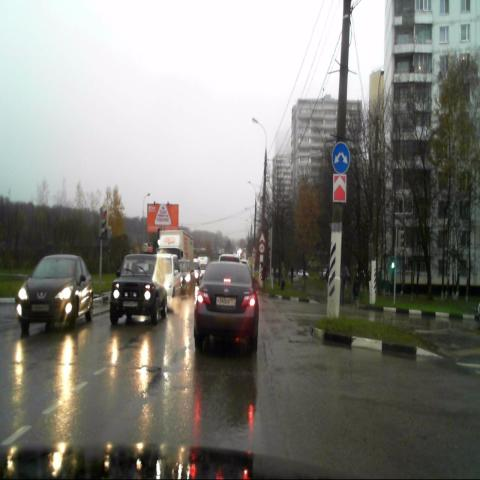4_2_3: (332, 141, 350, 175)
